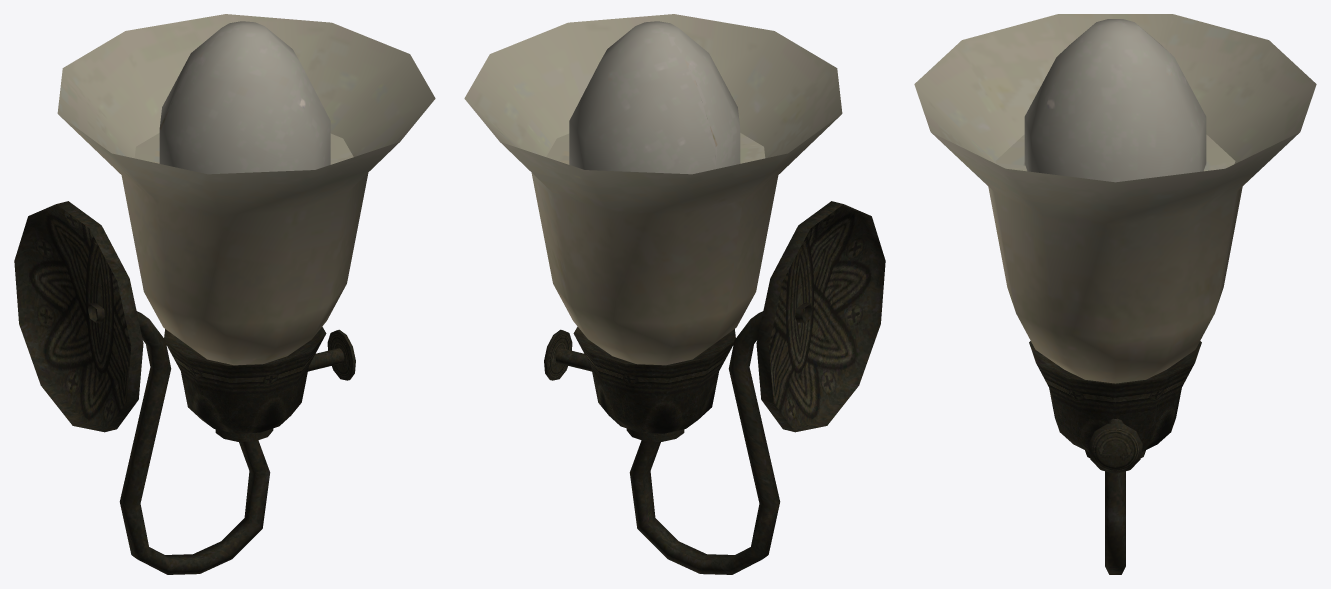
Rendered from gas_lamp_wall.DAE.
The picture shows the model from 3 angles, left to right: view 1: azimuth 30°, elevation 25°; view 2: azimuth 150°, elevation 25°; view 3: azimuth 270°, elevation 25°; orthographic projection. The views are drawn at different scales.
Parts seen in each view (by area): view 1: Box002; view 2: Box002; view 3: Box002.
Part boxes in pixels (<box>): Box002: <box>14,14,435,574</box>; Box002: <box>464,14,885,574</box>; Box002: <box>914,14,1316,574</box>.
Size of the model in its own units: 0.5048 by 0.4921 by 0.7642.
